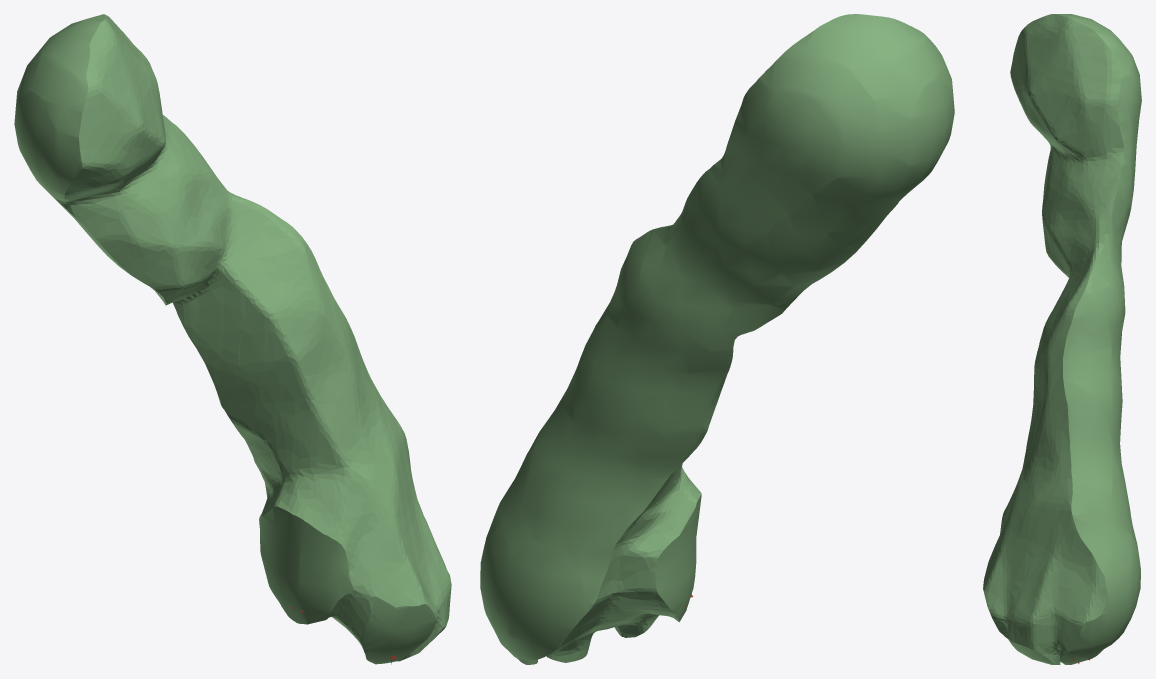
The model's file is TrollArmLayers.fbx.
The picture shows the model from 3 angles, left to right: view 1: azimuth 30°, elevation 25°; view 2: azimuth 150°, elevation 25°; view 3: azimuth 270°, elevation 25°; orthographic projection. The views are drawn at different scales.
Parts seen in each view (by area): view 1: Arm_L_Skin; view 2: Arm_L_Skin; view 3: Arm_L_Skin.
Part boxes in pixels (<box>): Arm_L_Skin: <box>14,14,451,664</box>; Arm_L_Skin: <box>480,14,954,664</box>; Arm_L_Skin: <box>983,14,1141,664</box>.
Bounding box in the file's own units: 0.6624 × 1.05 × 0.2802.
